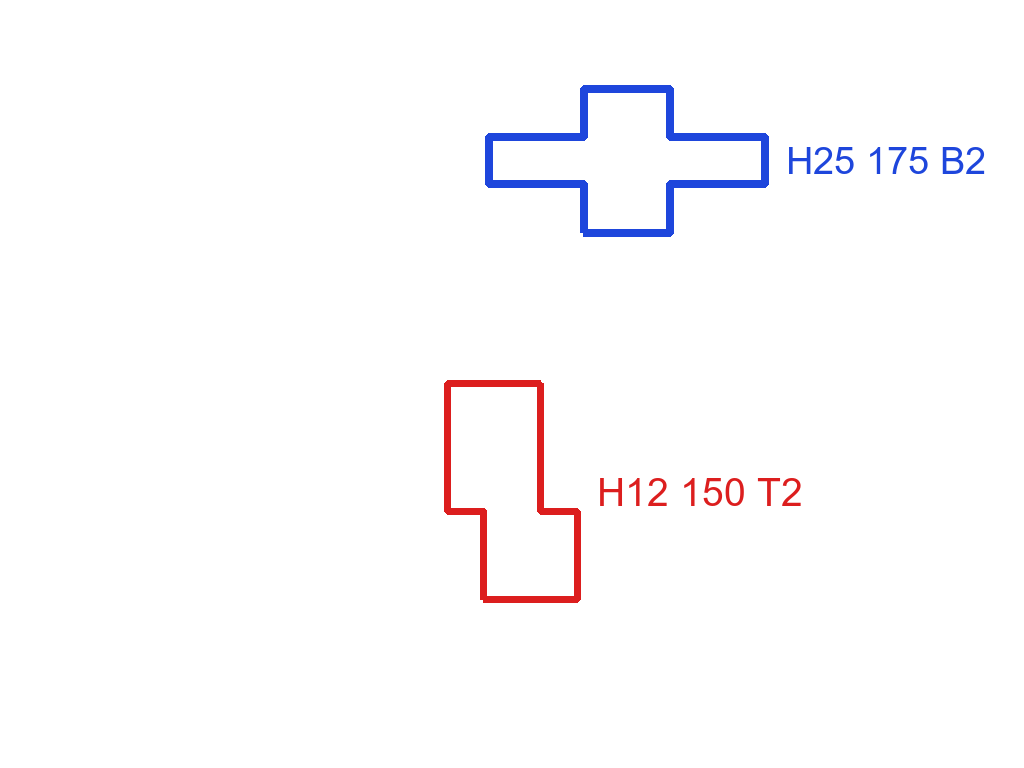shape: (482, 83, 772, 238), (442, 378, 583, 605)
text: (595, 476, 805, 508), (784, 145, 988, 176)
